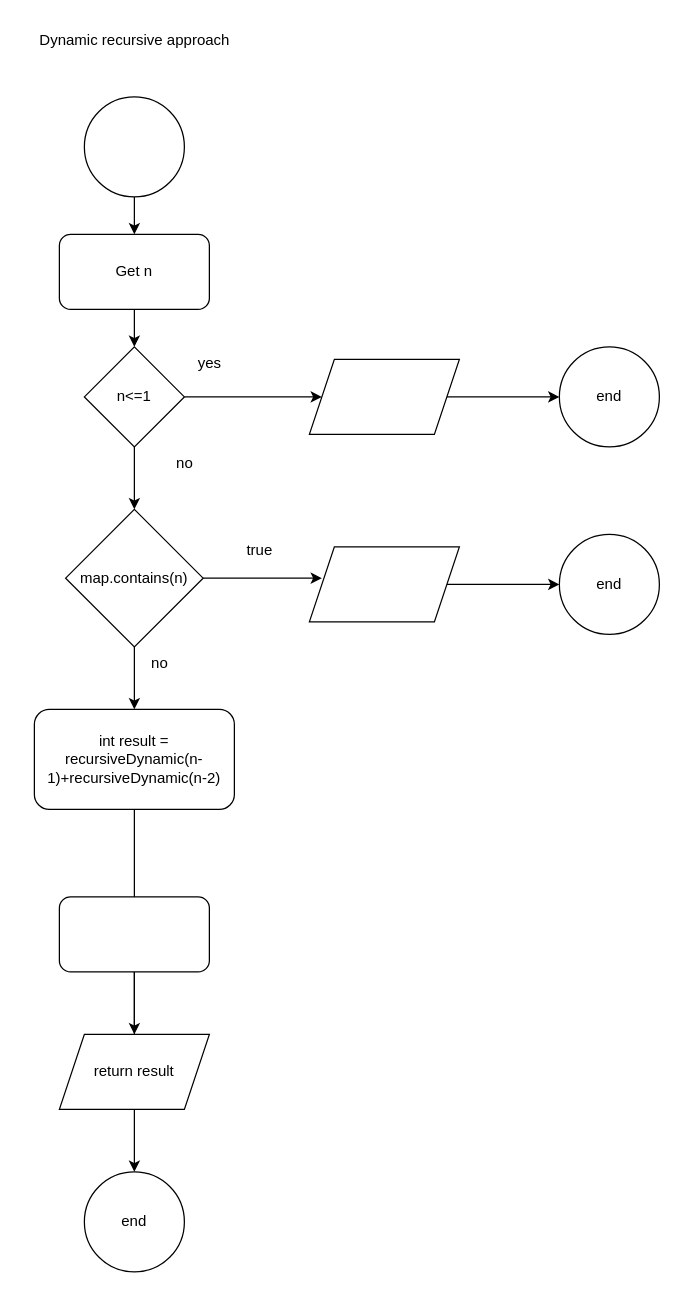
Image size: 681x1294. Some labels were removed from this diagram. The shapes that lost their labels are listed below. From the top down, each one's centre as x and y in pixels, then its label:
At point (133, 146): "start".
At point (383, 396): "return n".
At point (383, 584): "return map.get(n)".
At point (133, 934): "map.put(n, result)".
